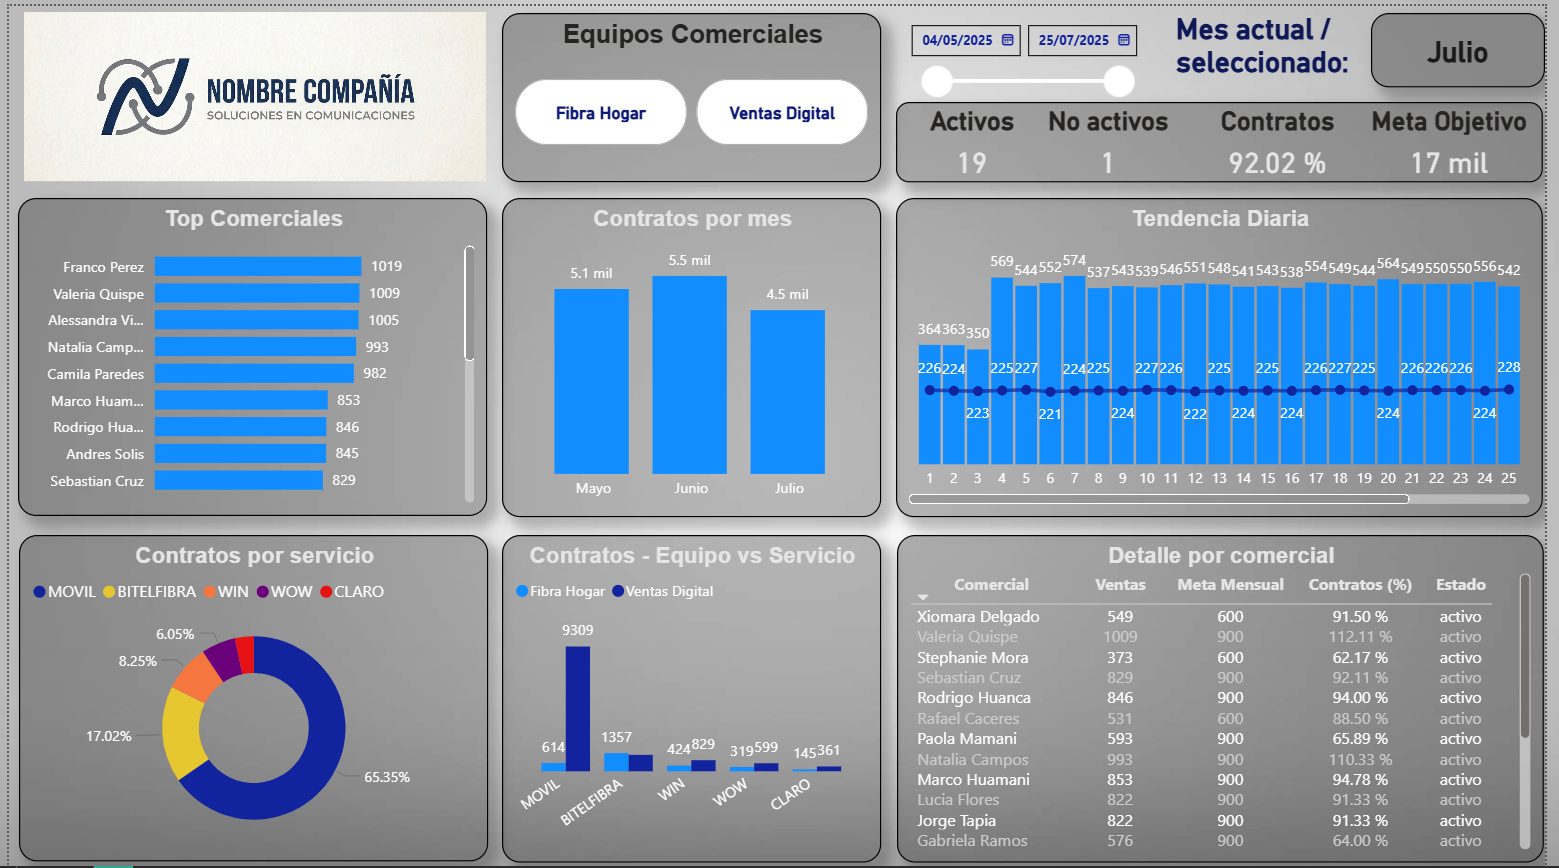

Layout of this report page (visuals, bound fields, positions):
{"tool":"powerbi","page":{"name":"Ventas","canvas":[1280,720],"ordinal":0},"visuals":[{"type":"cardVisual","title":"Activos","fields":{"Data":["ventas_sample.Asesores Activos"]},"box":[739.4,79.9,539,67.1],"z":0},{"type":"donutChart","title":"Contratos por servicio","fields":{"Category":["ventas_sample.tipoServicio"],"Y":["Sum(ventas_sample.cantidad)"]},"box":[8.1,440.8,391.4,272],"z":1000},{"type":"barChart","title":"Top Comerciales","fields":{"Category":["ventas_sample.Asesor_Nombre"],"Y":["Sum(ventas_sample.cantidad)"]},"box":[7.2,159.8,391.4,264.8],"z":2000},{"type":"lineClusteredColumnComboChart","title":"Tendencia Diaria","fields":{"Y":["Sum(ventas_sample.cantidad)"],"Category":["ventas_sample.fecha.Variación.Jerarquía de fechas.Día"],"Y2":["Medidas.Meta Diaria Total"]},"box":[739.4,159.7,539,265.9],"z":3000},{"type":"slicer","fields":{"Values":["ventas_sample.fecha"]},"box":[739.4,5.6,206.8,74.3],"z":4000},{"type":"clusteredColumnChart","title":"Contratos por mes","fields":{"Category":["ventas_sample.Mes"],"Y":["Sum(ventas_sample.cantidad)"]},"box":[411.2,159.7,316.2,265.9],"z":5000},{"type":"card","fields":{"Values":["Min(ventas_sample.Mes)"]},"box":[1134.7,5.6,145.3,62.3],"z":6000},{"type":"advancedSlicerVisual","title":"Equipos Comerciales","fields":{"Values":["ventas_sample.Equipo"]},"box":[411.2,5.6,316.2,141.3],"z":7000},{"type":"cardVisual","title":"Contratos","fields":{"Data":["ventas_sample.% Cumplimiento Meta"]},"box":[975.8,83,162.9,63.9],"z":8000},{"type":"cardVisual","title":"Meta Objetivo","fields":{"Data":["ventas_sample.Meta Total Mensual"]},"box":[1121.1,83,158.9,63.9],"z":9000},{"type":"tableEx","title":"Detalle por comercial","fields":{"Values":["ventas_sample.Asesor_Nombre","Sum(ventas_sample.cantidad)","Medidas.Meta Total Mensual","Medidas.% Cumplimiento Meta","ventas_sample.Estado_Asesor"]},"box":[739.8,440.8,538.7,272.9],"z":10000},{"type":"clusteredColumnChart","title":"Contratos - Equipo vs Servicio","fields":{"Category":["ventas_sample.tipoServicio"],"Y":["Sum(ventas_sample.cantidad)"],"Series":["ventas_sample.Equipo"]},"box":[411.2,440.8,316,272.9],"z":11000},{"type":"cardVisual","title":"Activos","fields":{"Data":["ventas_sample.Asesores Activos"]},"box":[739.4,83,127,63.9],"z":12000},{"type":"cardVisual","title":"No activos","fields":{"Data":["ventas_sample.Asesores Baja"]},"box":[856.8,83,119,63.9],"z":13000},{"type":"image","box":[7.2,0,395.3,150.9],"z":14000},{"type":"cardVisual","title":"Mes actual / seleccionado:","fields":{"Data":["ventas_sample.Asesores Activos"]},"box":[967.8,5.6,159.7,56.7],"z":15000}]}

Visuals, with their boxes in screenshot pixels (x1, y1, x2, y2), scaled from the page's 1280x720 canvas onto the 1559x868 screenshot:
"Activos" cardVisual: (left=901, top=96, right=1557, bottom=177)
"Contratos por servicio" donutChart: (left=10, top=531, right=487, bottom=859)
"Top Comerciales" barChart: (left=9, top=193, right=485, bottom=512)
"Tendencia Diaria" lineClusteredColumnComboChart: (left=901, top=193, right=1557, bottom=513)
slicer - ventas_sample.fecha: (left=901, top=7, right=1152, bottom=96)
"Contratos por mes" clusteredColumnChart: (left=501, top=193, right=886, bottom=513)
card - Min(ventas_sample.Mes): (left=1382, top=7, right=1558, bottom=82)
"Equipos Comerciales" advancedSlicerVisual: (left=501, top=7, right=886, bottom=177)
"Contratos" cardVisual: (left=1188, top=100, right=1387, bottom=177)
"Meta Objetivo" cardVisual: (left=1365, top=100, right=1558, bottom=177)
"Detalle por comercial" tableEx: (left=901, top=531, right=1557, bottom=860)
"Contratos - Equipo vs Servicio" clusteredColumnChart: (left=501, top=531, right=886, bottom=860)
"Activos" cardVisual: (left=901, top=100, right=1055, bottom=177)
"No activos" cardVisual: (left=1044, top=100, right=1188, bottom=177)
image: (left=9, top=0, right=490, bottom=182)
"Mes actual / seleccionado:" cardVisual: (left=1179, top=7, right=1373, bottom=75)
